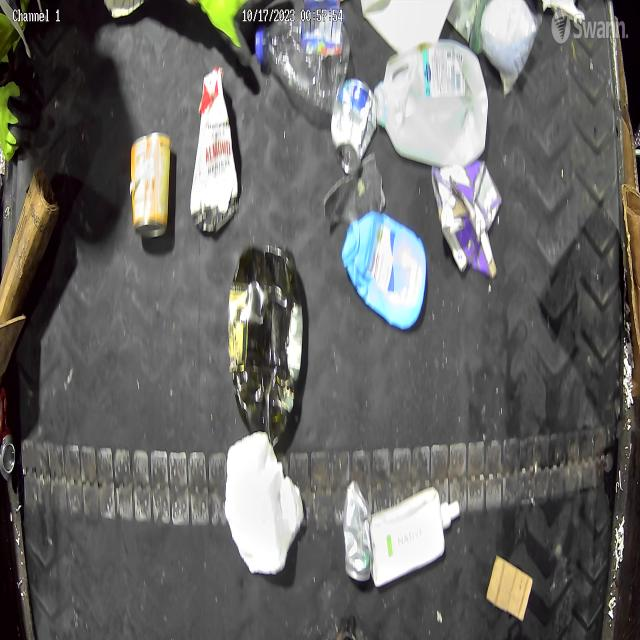can: (331, 79, 377, 175), (130, 131, 171, 238), (343, 481, 372, 581), (0, 389, 16, 481)
milk_jug: (375, 45, 490, 166), (359, 0, 457, 52)
non_white_jug: (228, 245, 304, 447), (341, 212, 428, 331)
plastic_bottle: (256, 15, 350, 114)
